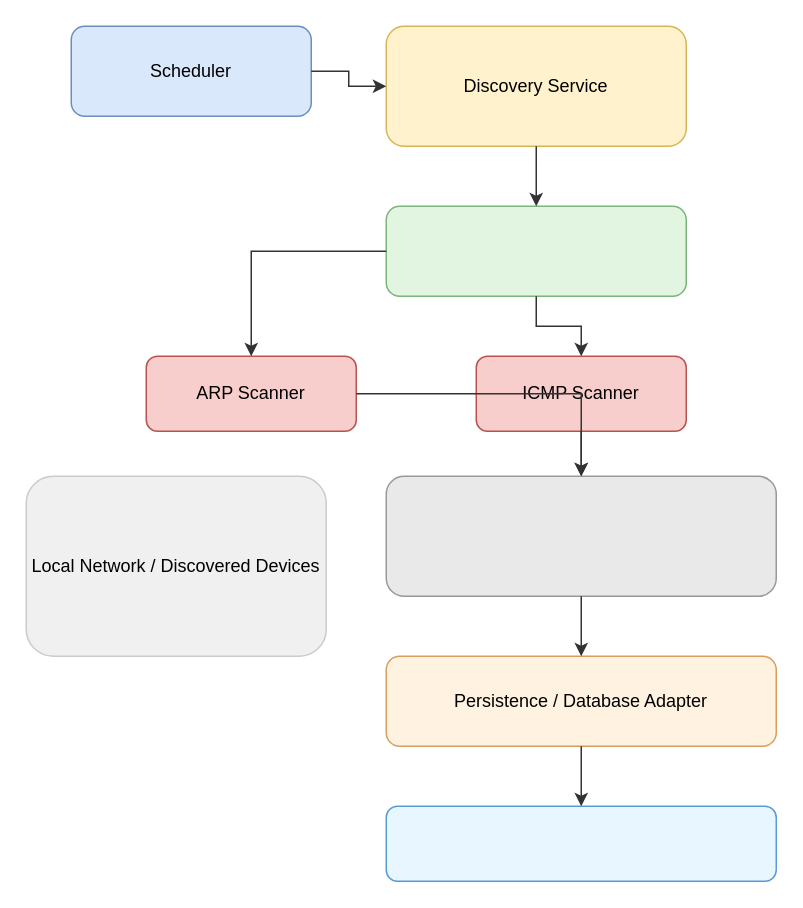
This 803x908 diagram has some shape labels left out. The shapes that lost their labels are listed below. From the top down, each one's centre as x and y in pixels, then its label:
At point 535,250: "Scanner".
At point 580,535: "Device Identifier\n(Hostname, MAC Vendor, Classification)".
At point 580,843: "Device Inventory".
